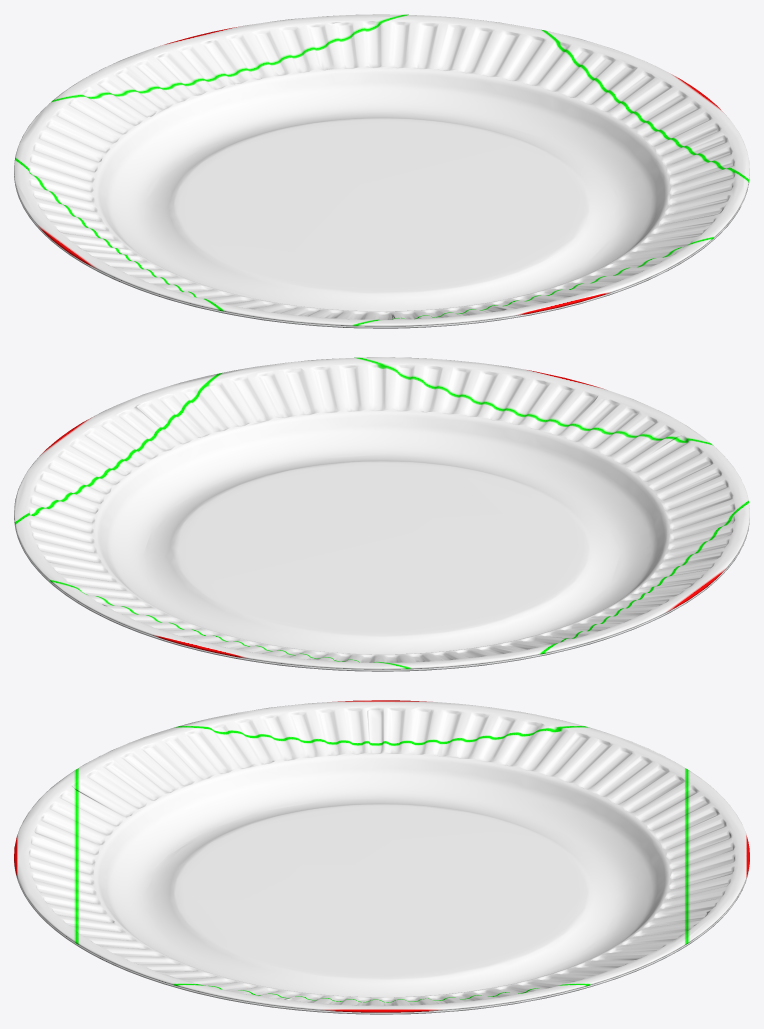
File: plate.gltf
3 views of the same model, one above another, from view 1: azimuth 30°, elevation 25°; view 2: azimuth 150°, elevation 25°; view 3: azimuth 270°, elevation 25° (orthographic).
Visible parts, largest first — view 1: outside, downside; view 2: outside, downside; view 3: outside, downside.
Part boxes in pixels (box(x1,y1,x2,y2)): outside: box(14, 14, 749, 326); downside: box(14, 174, 749, 328); outside: box(14, 357, 749, 669); downside: box(14, 518, 749, 671); outside: box(14, 700, 749, 1012); downside: box(14, 861, 749, 1014).
Size of the model in its own units: 3.73 by 0.2604 by 3.73.
2 materials, 2 textured.
